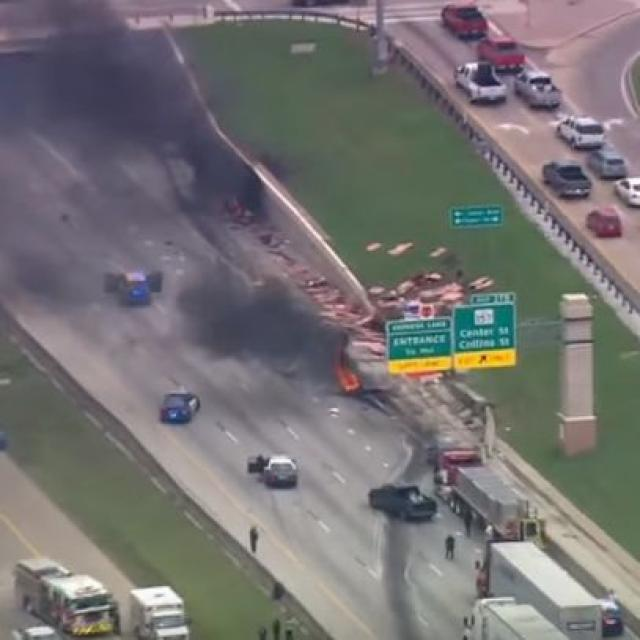traffic_incident: (196, 268, 376, 413), (176, 140, 275, 233)
